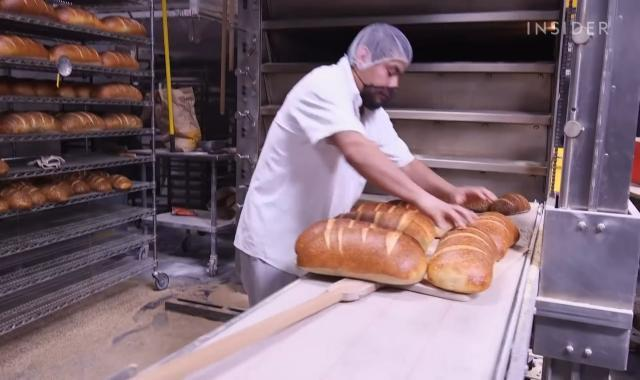Hairnet: (340, 22, 415, 69)
Mask: (349, 78, 405, 109)
No_Apron: (320, 54, 431, 266)
No_Glove: (430, 204, 480, 244), (451, 183, 501, 208)
